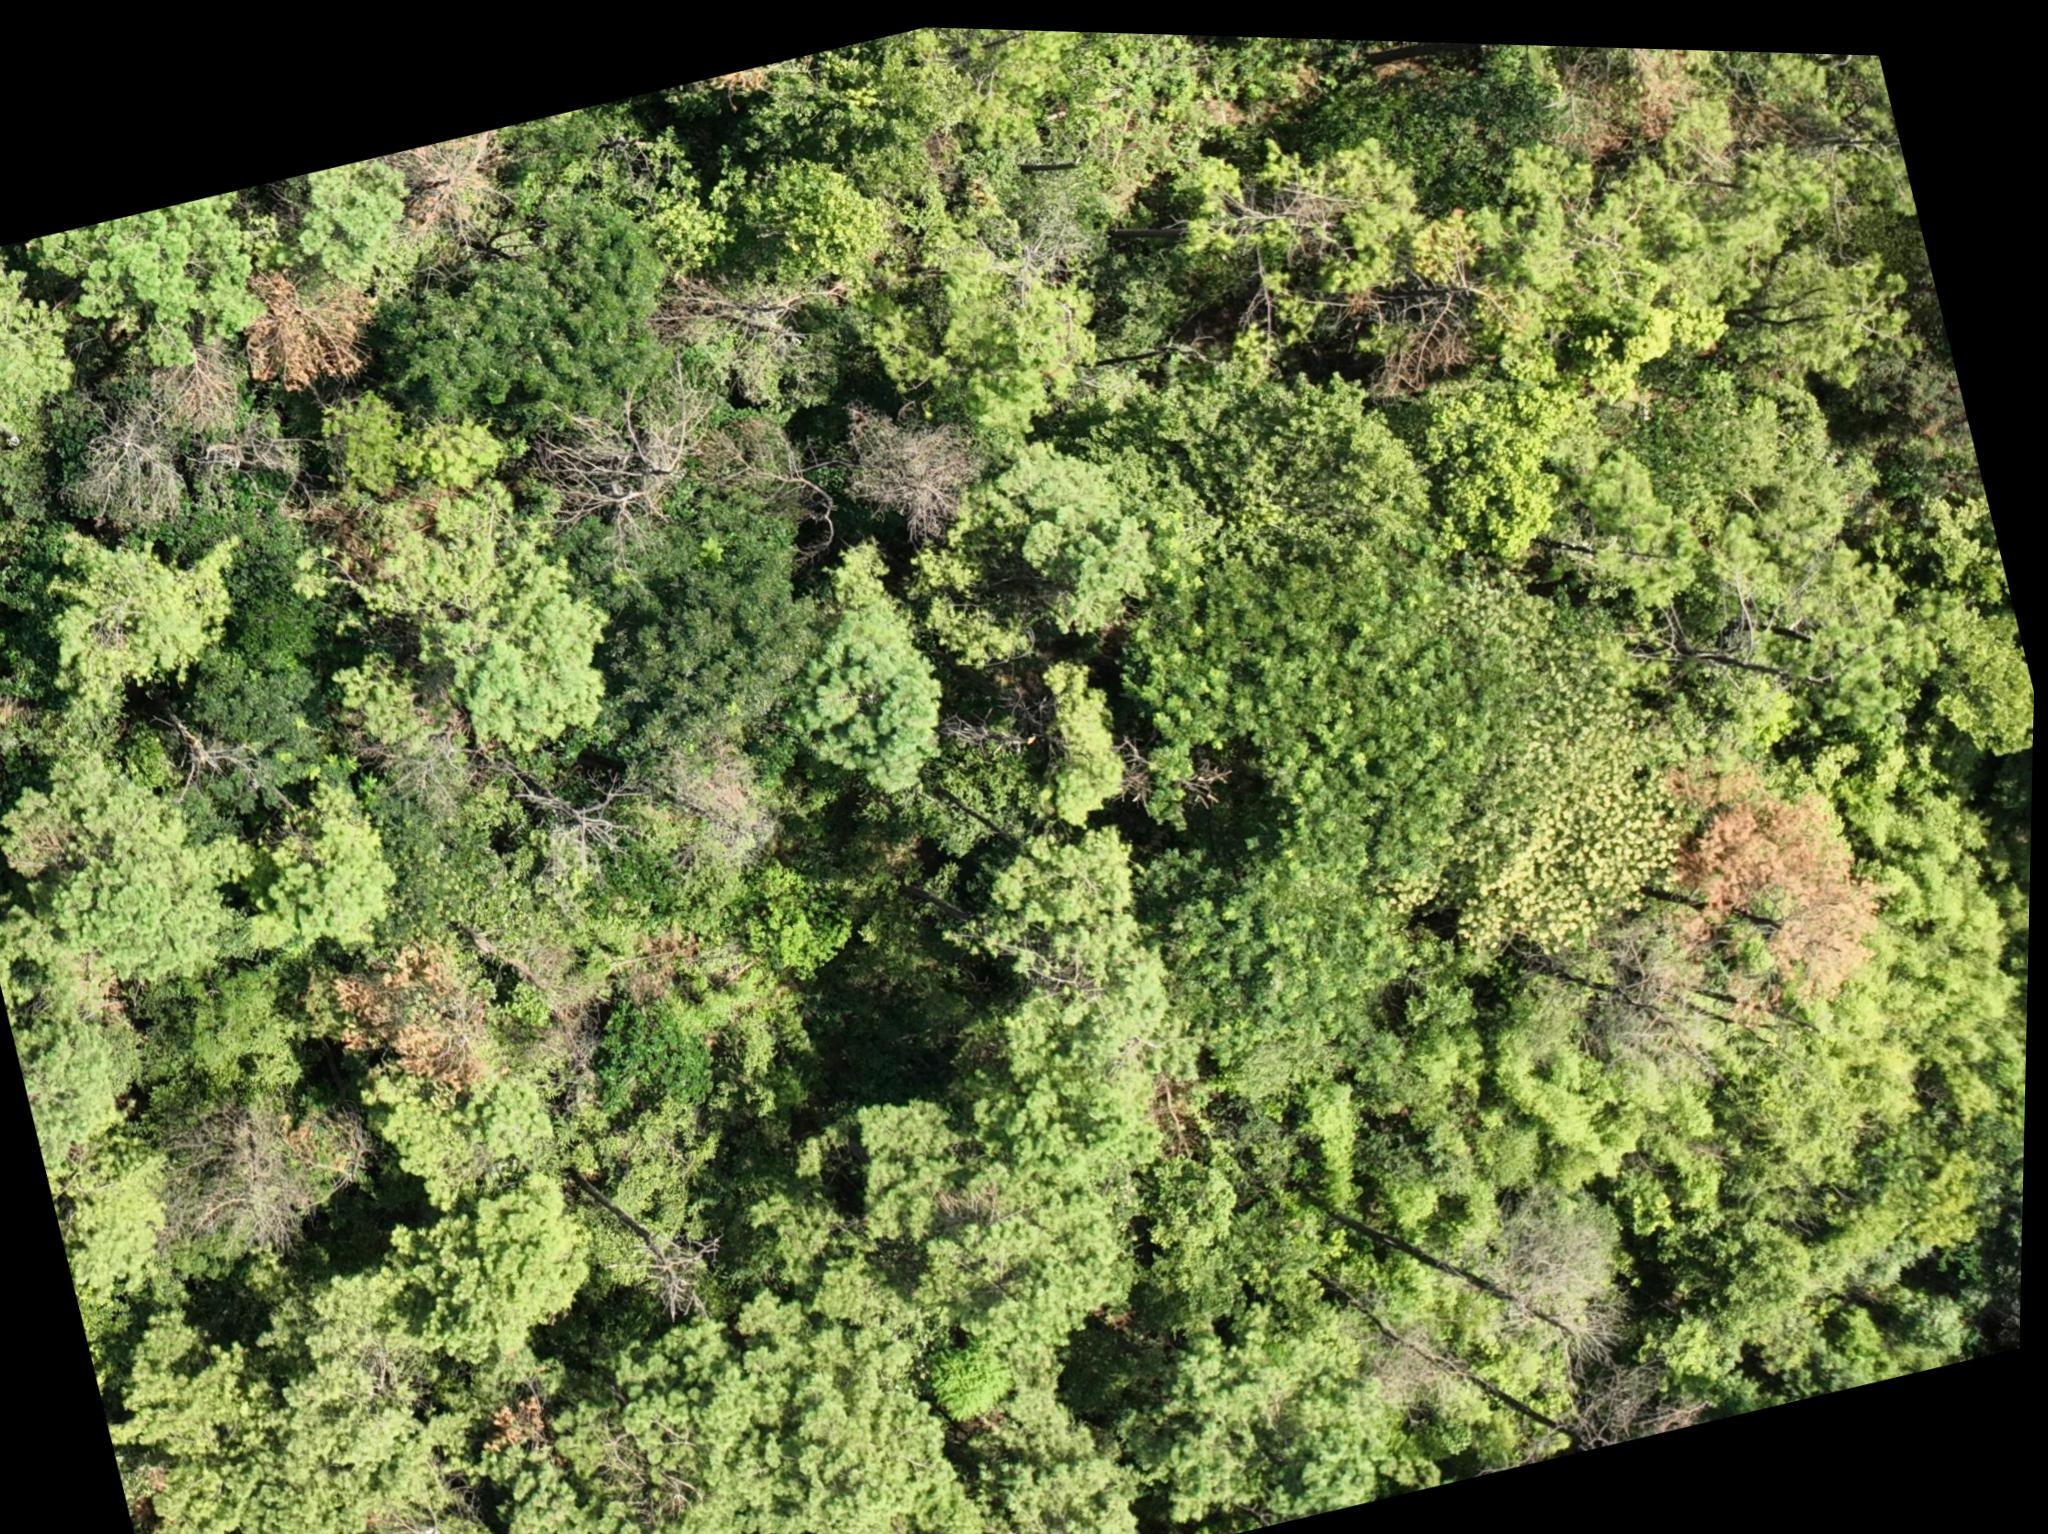dead: (44, 330, 280, 559), (532, 385, 735, 553), (843, 375, 1004, 551), (393, 131, 516, 243)
heavy: (1669, 752, 1898, 1010), (321, 930, 511, 1115), (230, 248, 383, 400)
